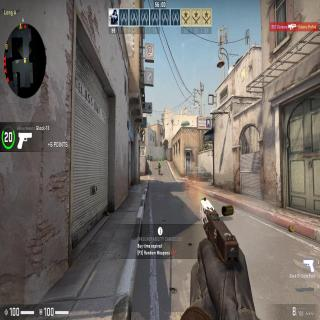CT-Body: (158, 161, 161, 173)
CT-Head: (159, 162, 160, 165)
